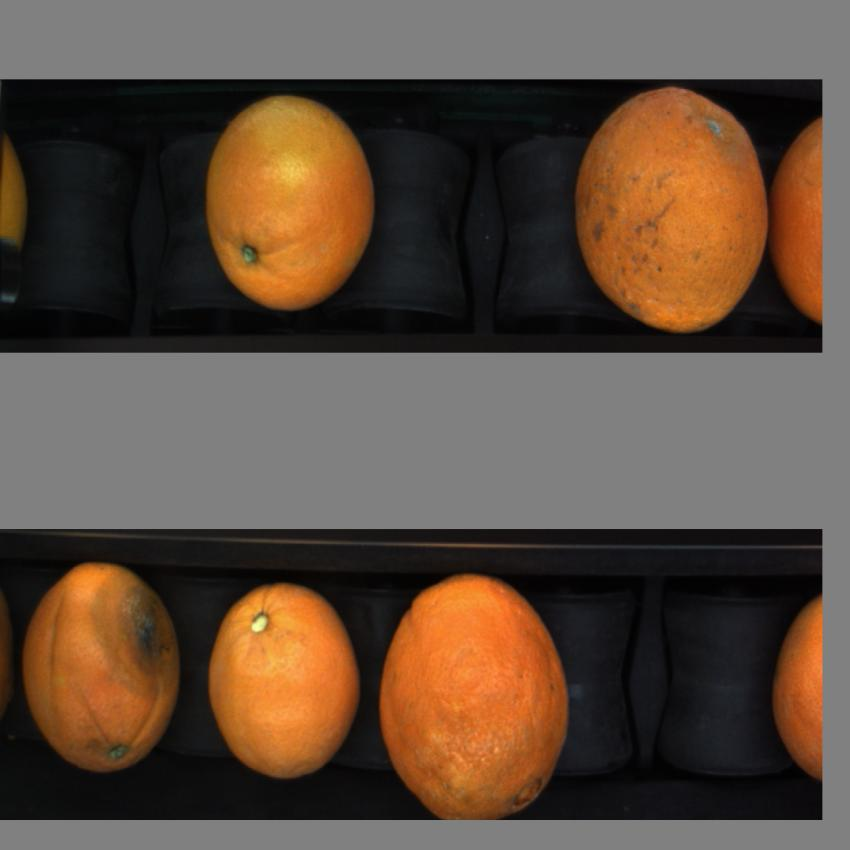Buen estado: (377, 573, 577, 821), (198, 88, 382, 319), (204, 580, 364, 784), (771, 118, 823, 325), (771, 577, 822, 782)
Mal estado: (568, 87, 768, 337), (21, 557, 183, 778)
